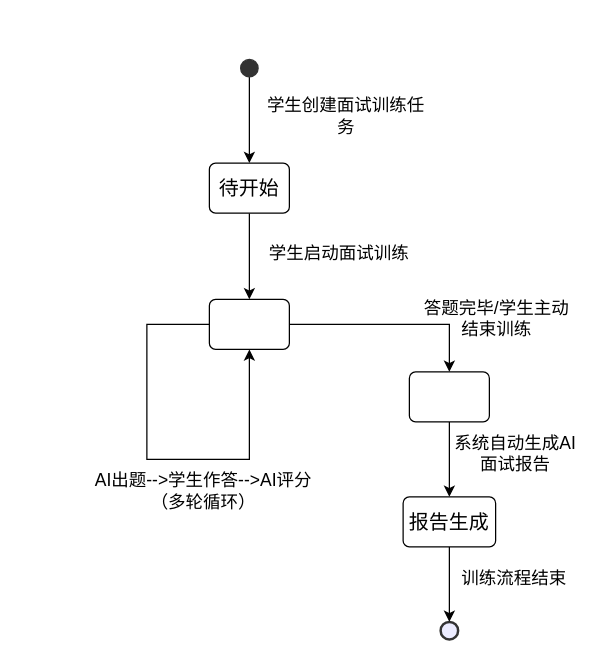
The diagram is 605 pixels wide and 661 high, and some of its shapes have lost their labels. Here are the shapes that lost their labels. From the top down, the centre of each, then its label:
(248,323): 进行中
(448,396): 已完成
